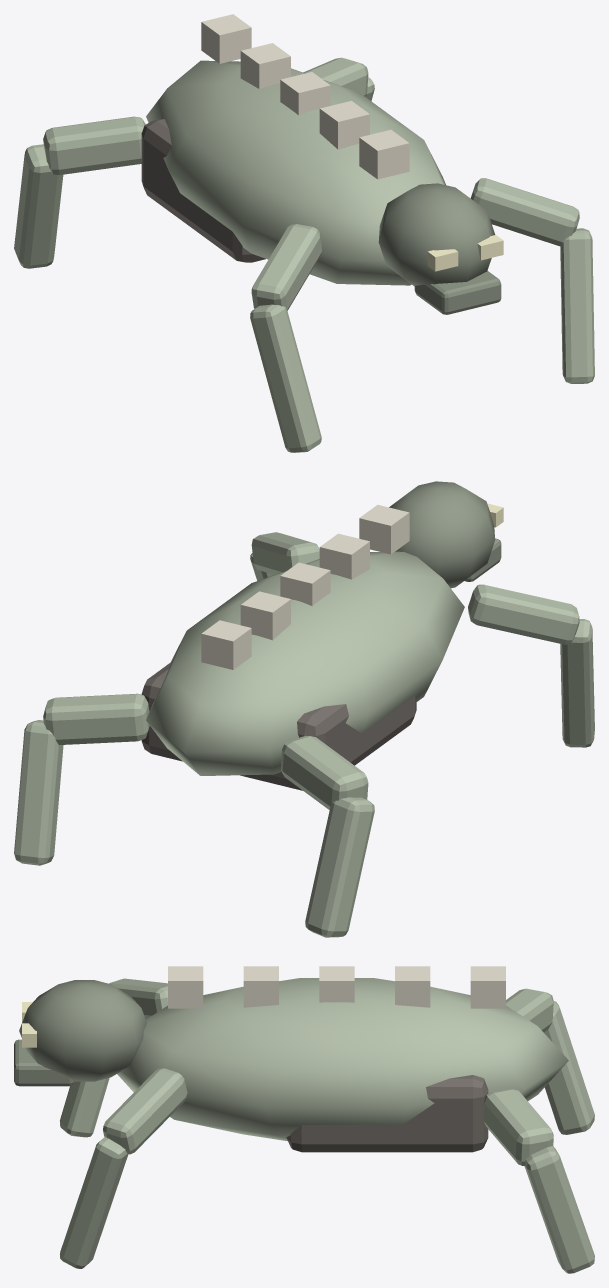
File: enemy_crawler.fbx
3 views of the same model, one above another, from view 1: azimuth 30°, elevation 25°; view 2: azimuth 150°, elevation 25°; view 3: azimuth 270°, elevation 25° (orthographic). The views are drawn at different scales.
Parts seen in each view (by area): view 1: enemy_crawler, Head, ArmR, LegR.003, ArmL, LegL.003; view 2: enemy_crawler, LegL.003, LegR.003, ArmR, Head, ArmL; view 3: enemy_crawler, Head, ArmL, LegL.003, LegR.003, ArmR.
Part boxes in pixels (left/top/right/bottom): enemy_crawler: left=141, top=14, right=445, bottom=285; Head: left=378, top=183, right=503, bottom=314; ArmR: left=250, top=224, right=321, bottom=452; LegR.003: left=14, top=116, right=145, bottom=268; ArmL: left=470, top=178, right=594, bottom=383; LegL.003: left=303, top=57, right=374, bottom=101; enemy_crawler: left=141, top=504, right=464, bottom=790; LegL.003: left=14, top=693, right=149, bottom=865; LegR.003: left=281, top=735, right=374, bottom=937; ArmR: left=468, top=584, right=594, bottom=747; Head: left=389, top=481, right=503, bottom=588; ArmL: left=250, top=532, right=319, bottom=580; enemy_crawler: left=117, top=966, right=568, bottom=1152; Head: left=14, top=980, right=146, bottom=1086; ArmL: left=60, top=1068, right=187, bottom=1268; LegL.003: left=483, top=1088, right=594, bottom=1273; LegR.003: left=506, top=988, right=594, bottom=1134; ArmR: left=60, top=978, right=167, bottom=1137.
Size of the model in its own units: 0.7534 by 0.4953 by 1.15.
